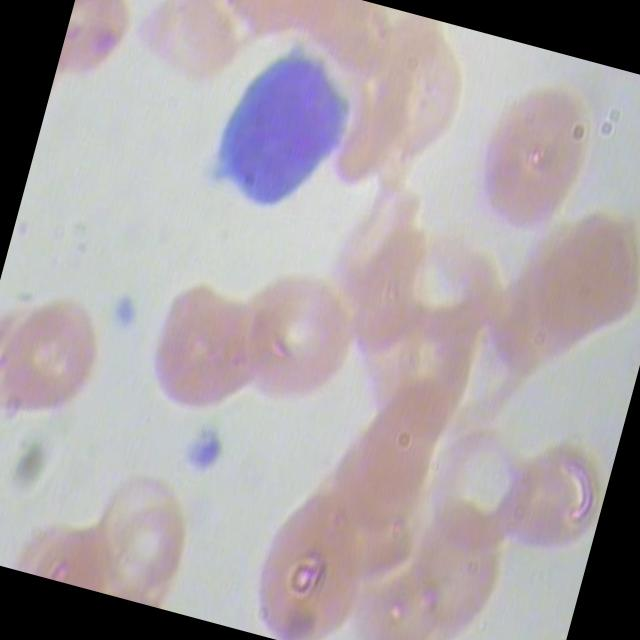Platelets: (175, 416, 235, 484), (98, 284, 158, 352)
RBC: (342, 13, 497, 192), (129, 260, 284, 438), (222, 257, 377, 435), (299, 198, 454, 376), (453, 79, 608, 257), (462, 228, 617, 406), (298, 384, 453, 562), (516, 197, 640, 375), (240, 488, 383, 640), (411, 419, 544, 568), (482, 433, 614, 582), (0, 289, 114, 438), (88, 492, 208, 614), (49, 0, 157, 119), (347, 547, 464, 640), (0, 298, 52, 434)
WBC: (174, 22, 379, 240)
